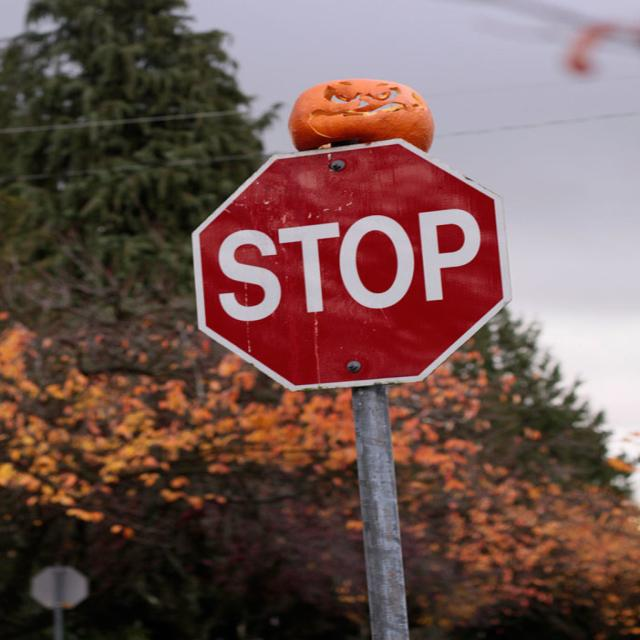Stop-sign: (190, 134, 513, 395)
